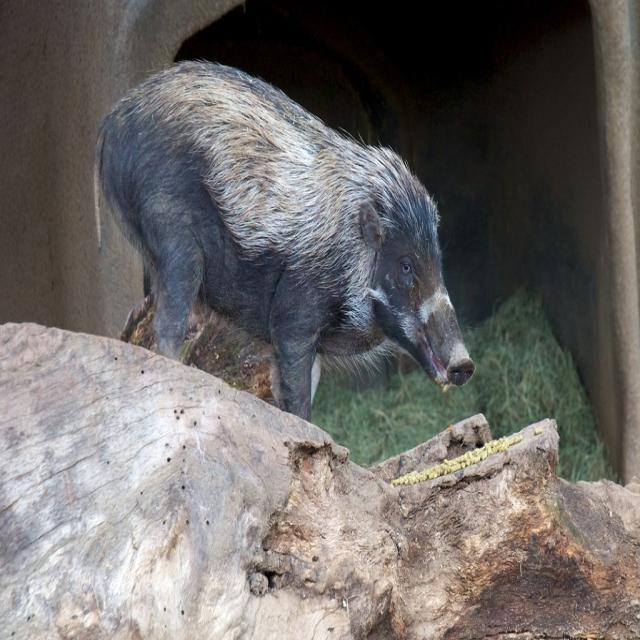Pig: (93, 41, 486, 423)
